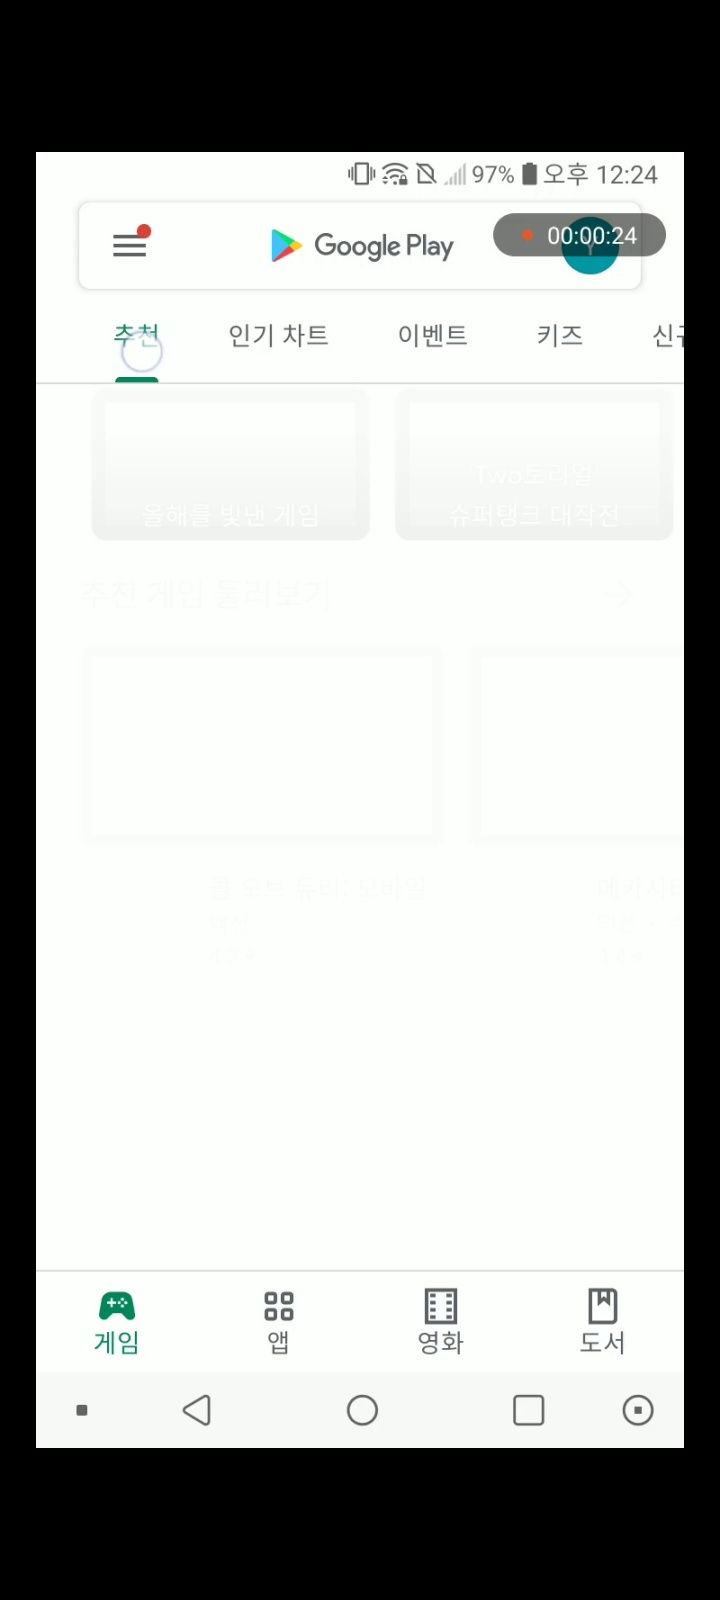Cursor: (120, 331, 165, 376)
